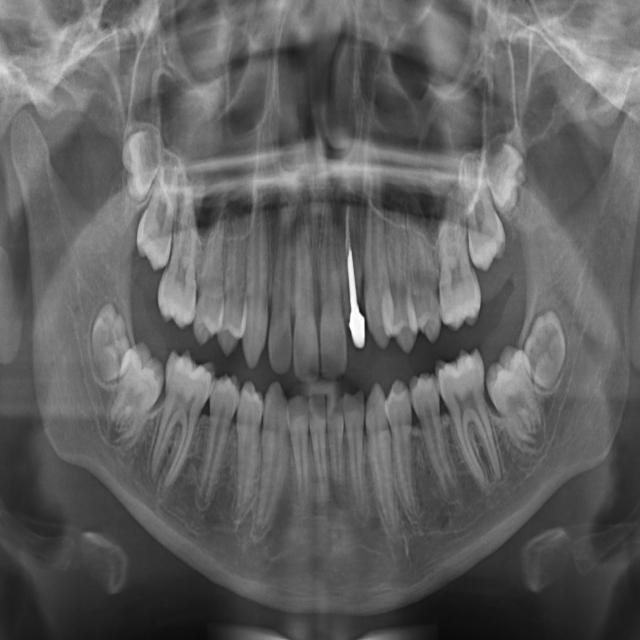RootCanalTreatment: (342, 196, 358, 251)
post: (346, 254, 367, 349)
